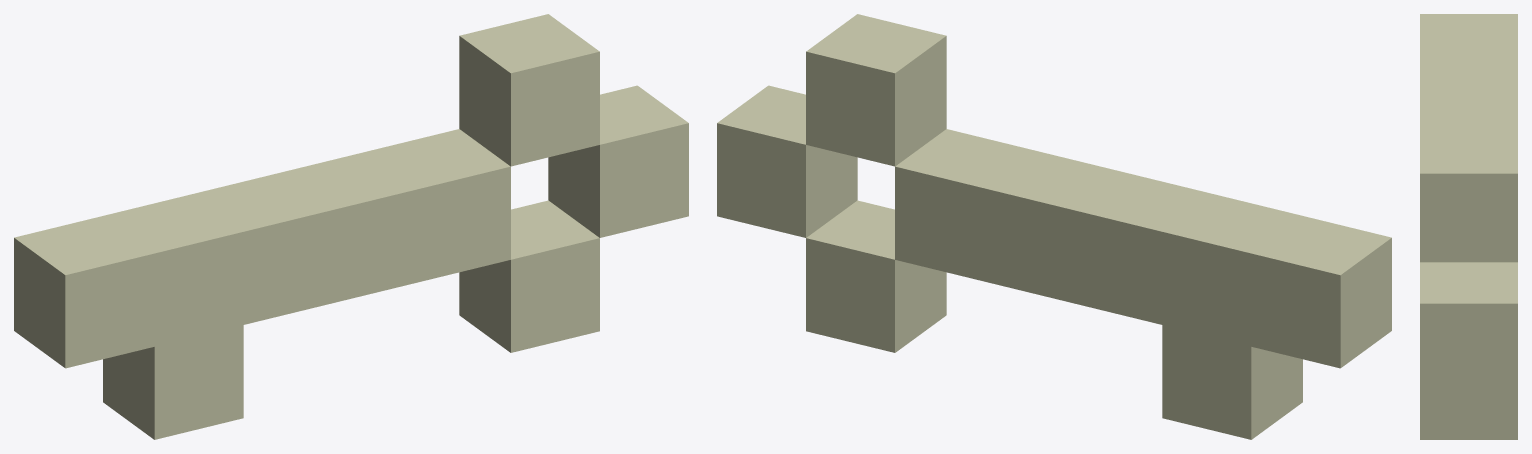
The model's file is Key-Tan.vox.obj.
3 views of the same model, side by side, from view 1: azimuth 30°, elevation 25°; view 2: azimuth 150°, elevation 25°; view 3: azimuth 270°, elevation 25° (orthographic). The views are drawn at different scales.
Size of the model in its own units: 0.7 by 0.3 by 0.1.
Materials: 1 (1 with a texture image).
